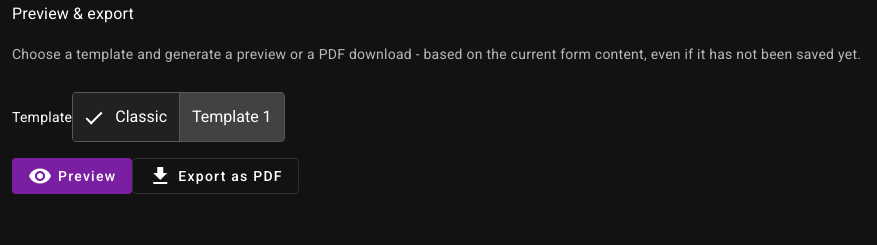
it: CvPreviewExportComponent › shows a 422-specific error message for an invalid template
This screenshot has width=877, height=245.
Click the button "Preview": {"x": 72, "y": 176} left=12, top=158, right=132, bottom=194
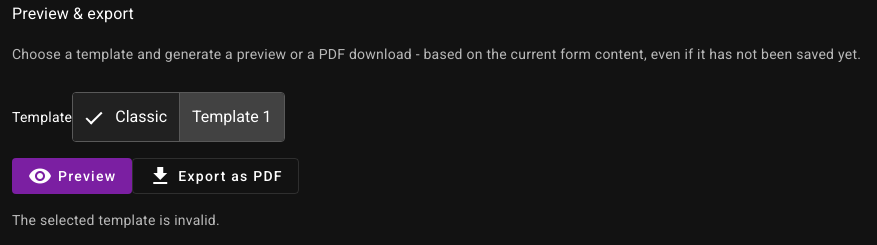
Result: the text "The selected template is invalid." is shown at left=12, top=212, right=220, bottom=228
